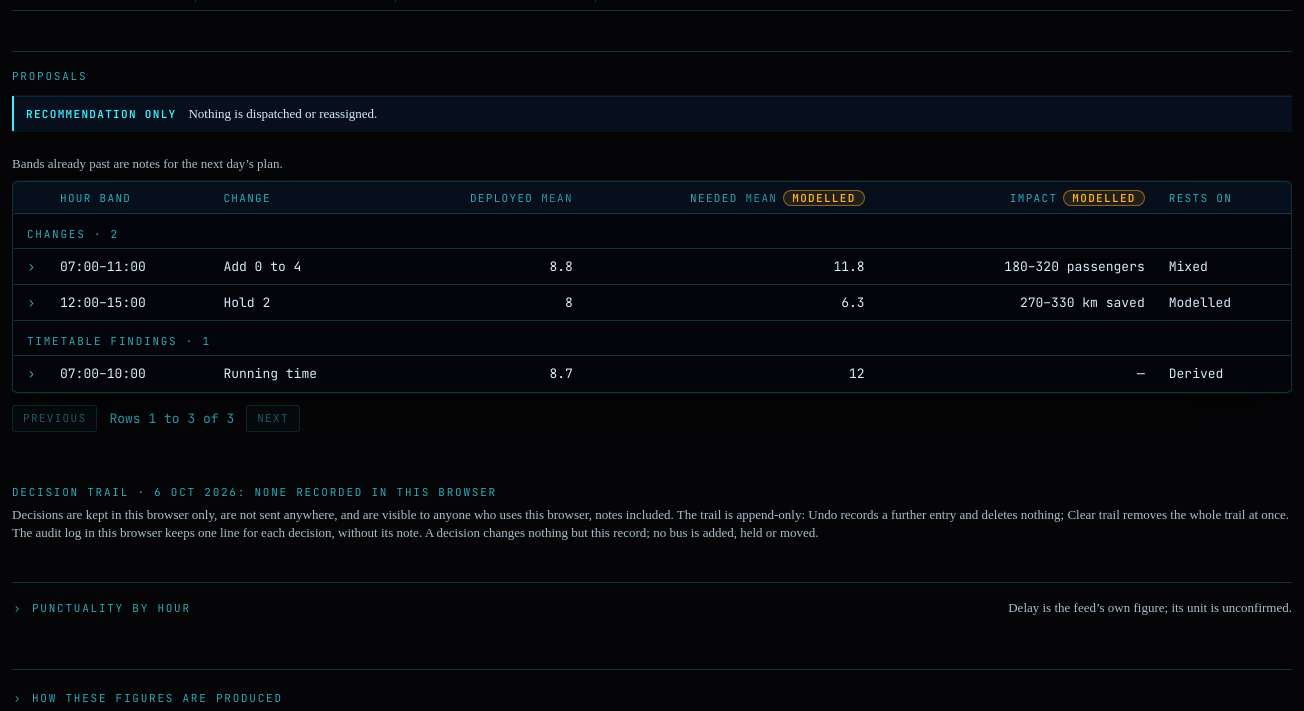
RouteHourlyPage body › prints a delay as the feed’s plain number, early with the module minus, never as a duration
The width and height of the screenshot is (1304, 711).
(page scrolled)
Click the button "› Punctuality by hour": x=101, y=608 [12,600,191,616]
(page scrolled)
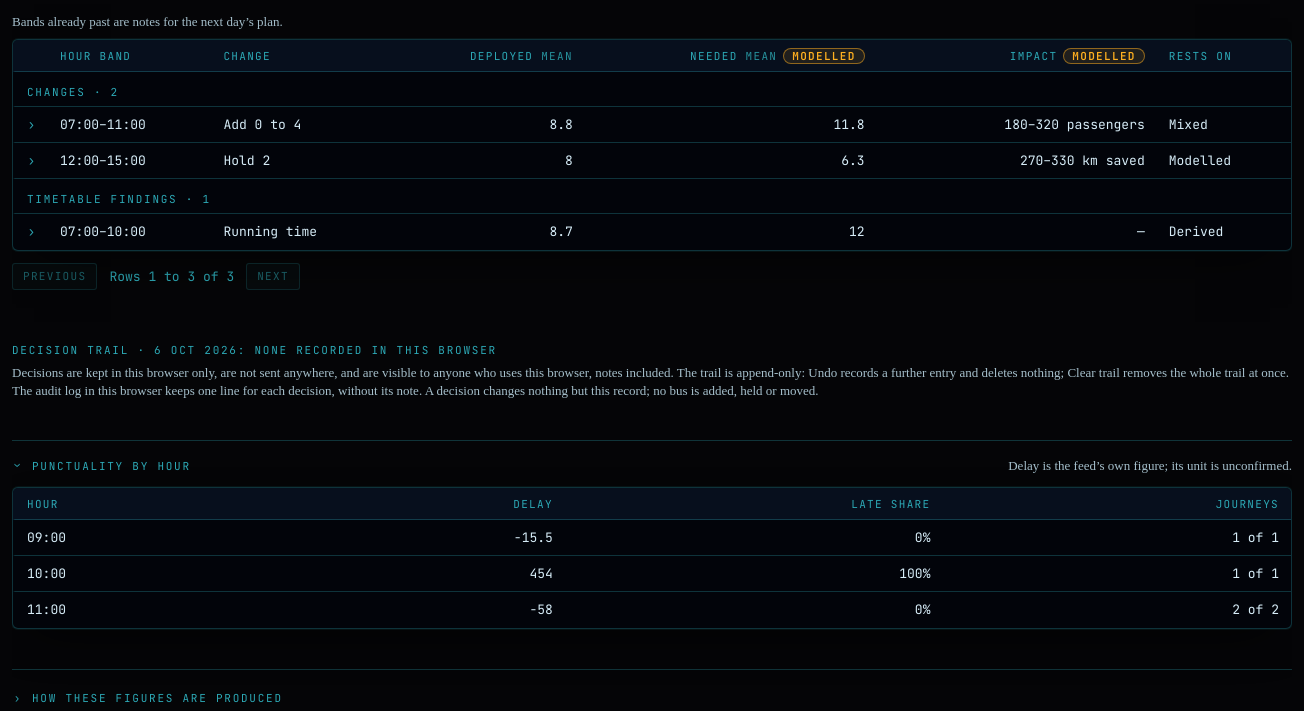
Expected: the row "09:00 −15.5 0% 1 of 1" is shown, [13,520,1291,556]
Expected: the row "10:00 454 100% 1 of 1" is shown, [13,556,1291,592]
Expected: the row "11:00 −58 0% 2 of 2" is shown, [13,592,1291,628]
